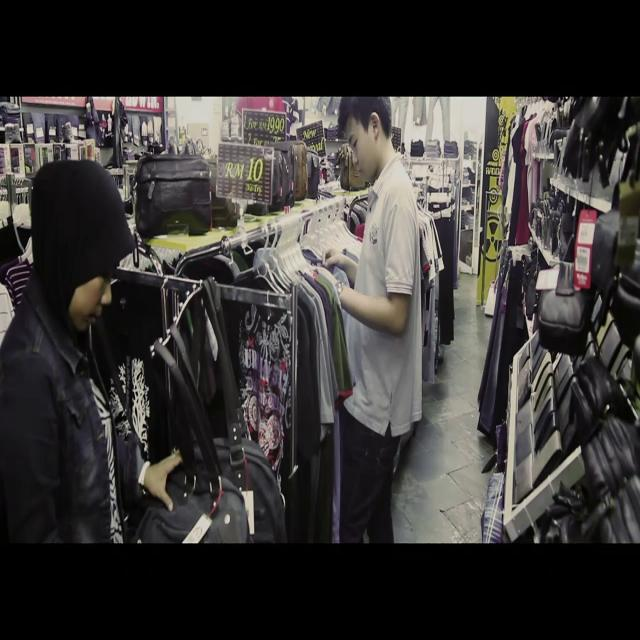normal: (1, 95, 231, 543), (290, 95, 439, 540)
